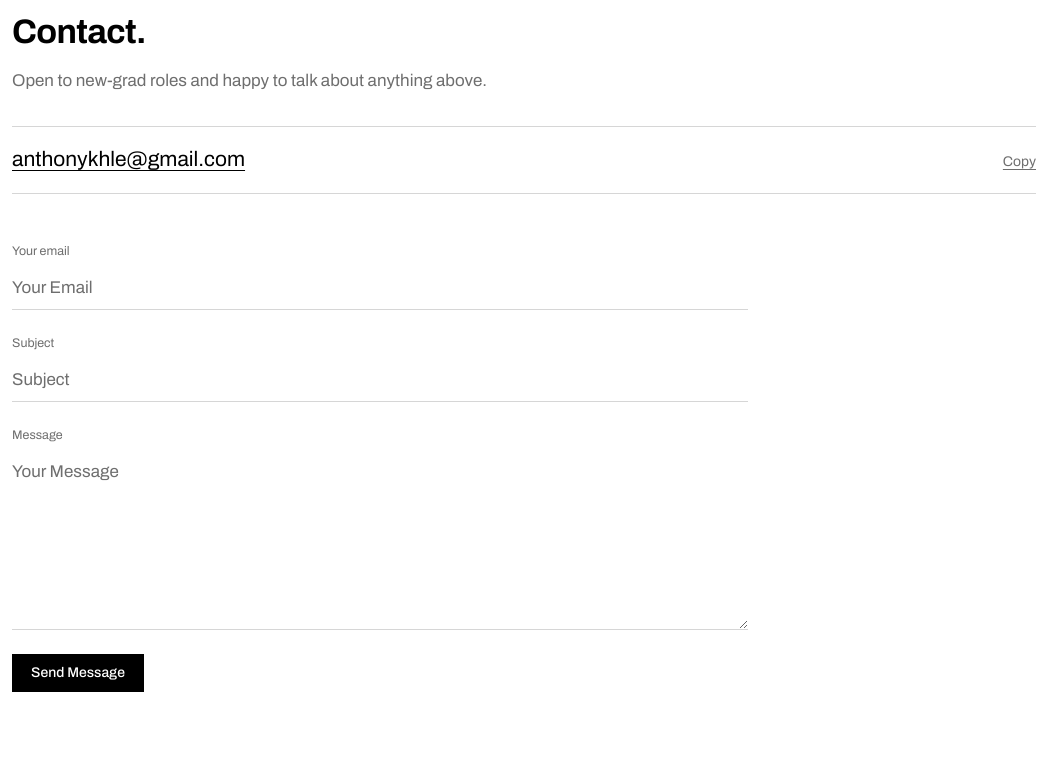
Contact Component › handles failed form submission
This screenshot has width=1048, height=780.
Type "test@example.com" into the field with placeholder "Your email" at [380, 288], box top-left (12, 266), bottom-right (748, 310)
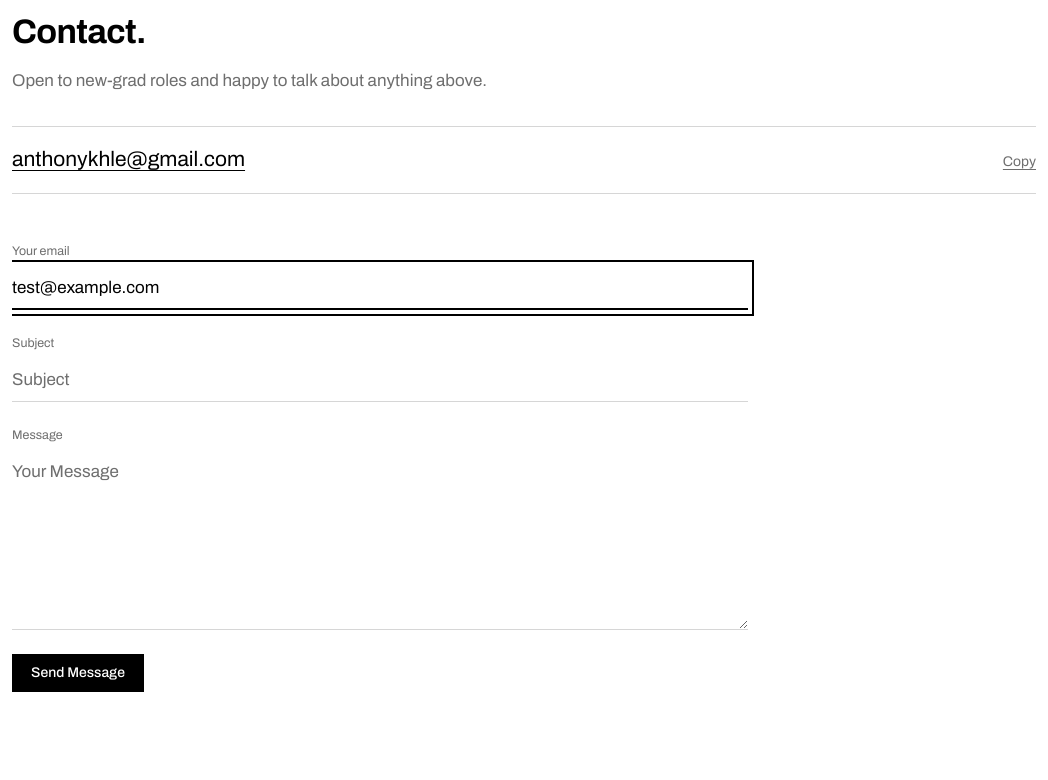
Type "Test Subject" into the field with placeholder "Subject" at [380, 380], box top-left (12, 358), bottom-right (748, 402)
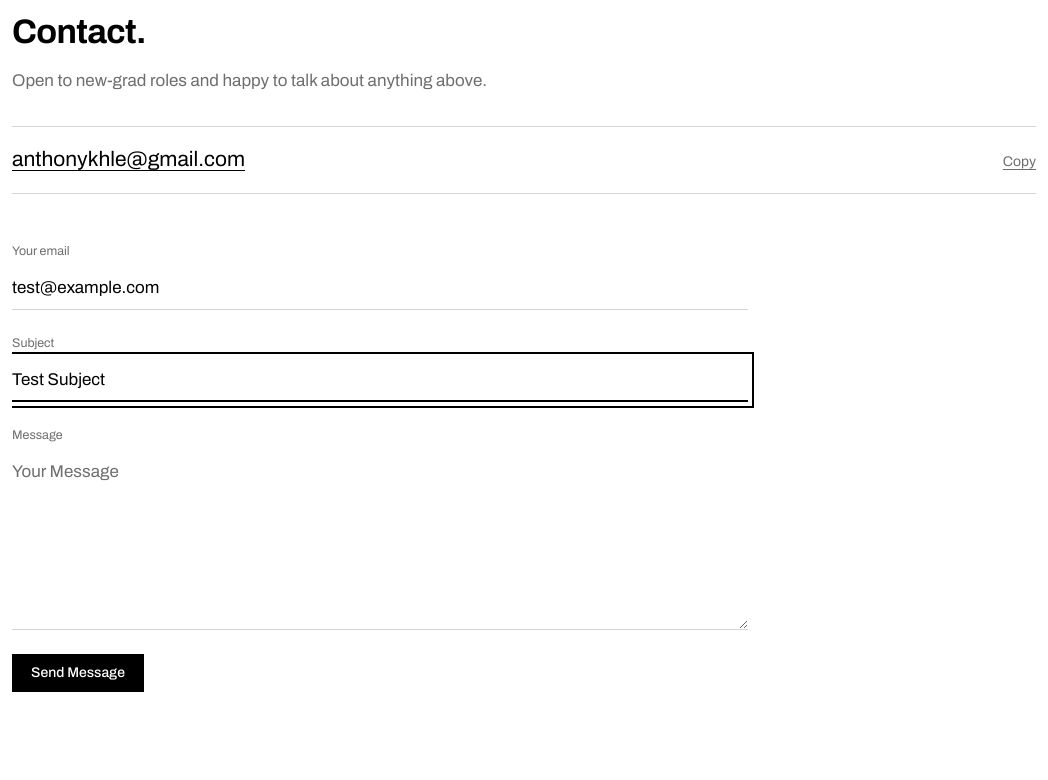
Type "Test Message" into the text box with placeholder "Your Message" at [380, 540], box top-left (12, 450), bottom-right (748, 630)
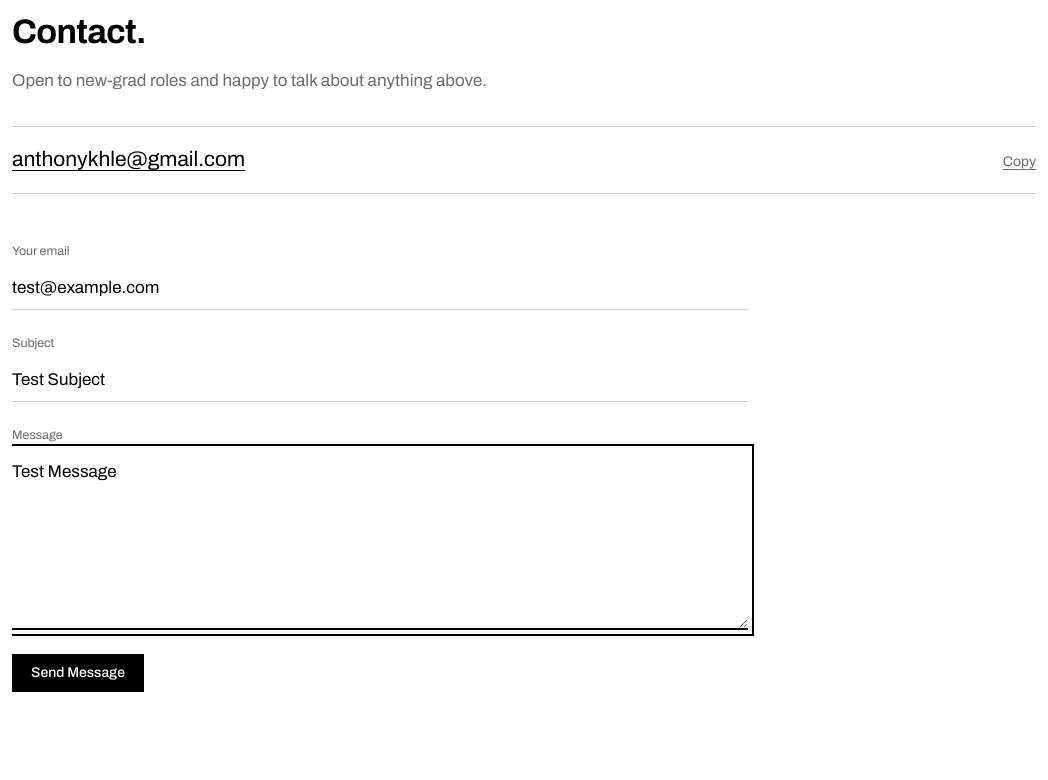
Click the button "Send Message" at [78, 673], box top-left (12, 654), bottom-right (144, 692)
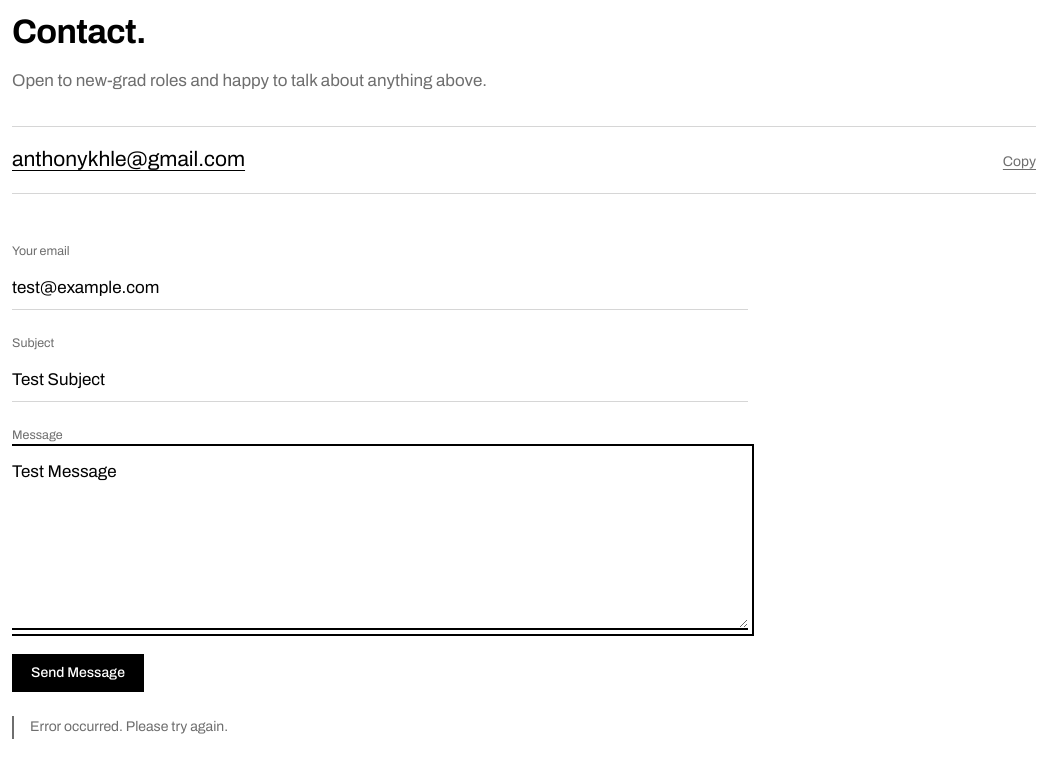
Expected: the text "Error occurred. Please try again." is shown, top-left (12, 716), bottom-right (748, 739)
